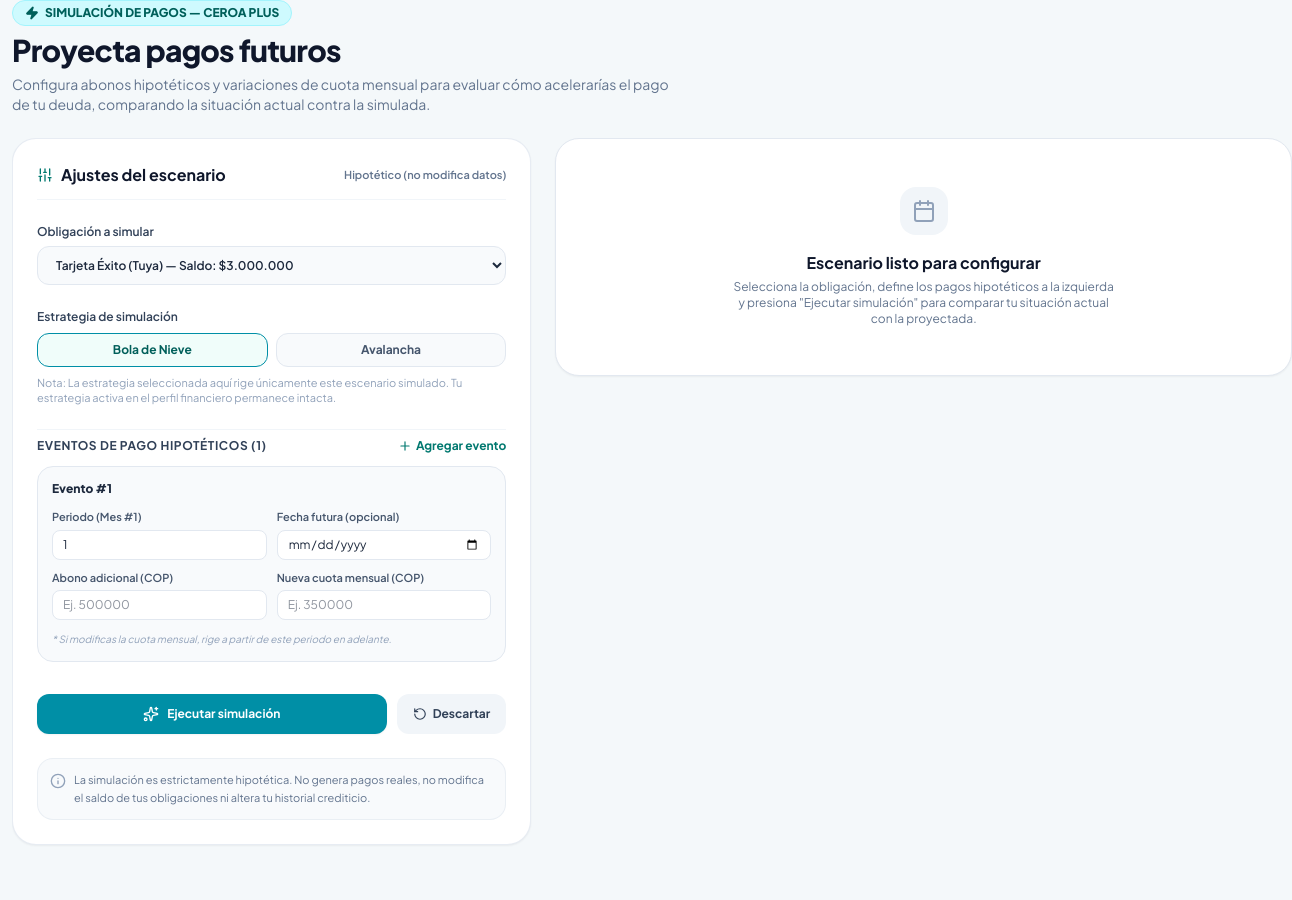
Test: EP-11 — Simulación de pagos (HU-045, HU-046, HU-047) › HU-045: Crear escenario de simulación › CA-03 & CA-04: Permite agregar y eliminar múltiples eventos hipotéticos
This screenshot has width=1292, height=900.
Expected: the text "Evento #1" is shown, left=52, top=481, right=112, bottom=497
Expected: the text "Evento #2" is not shown
Note: Agregar evento
Click the button "Agregar evento" at [452, 446], box left=398, top=438, right=506, bottom=454
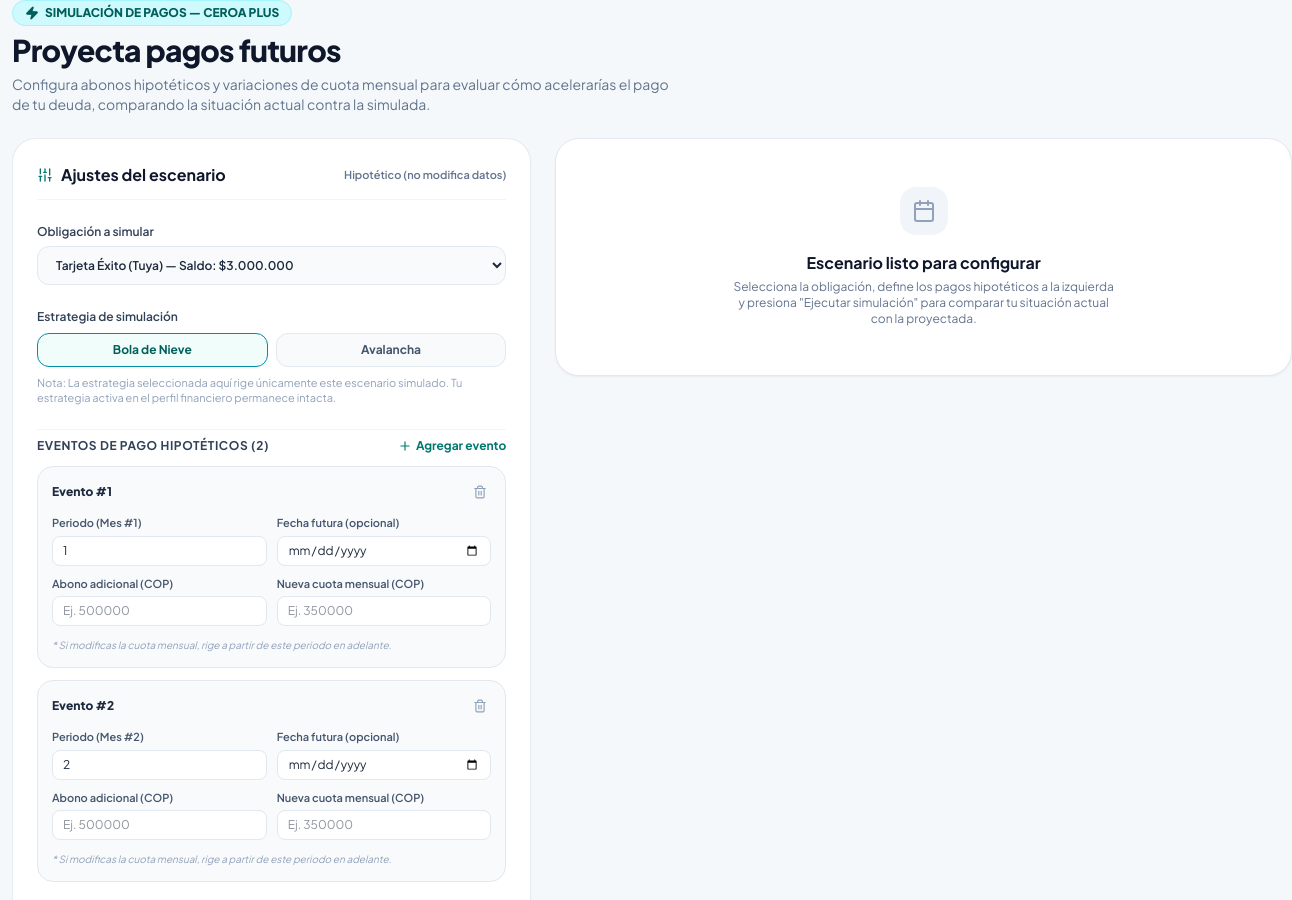
Now the text "Evento #2" is shown, box left=52, top=698, right=114, bottom=714
Note: Eliminar evento 2
Click the button named "Eliminar evento 2" at [480, 706], box left=469, top=695, right=491, bottom=717
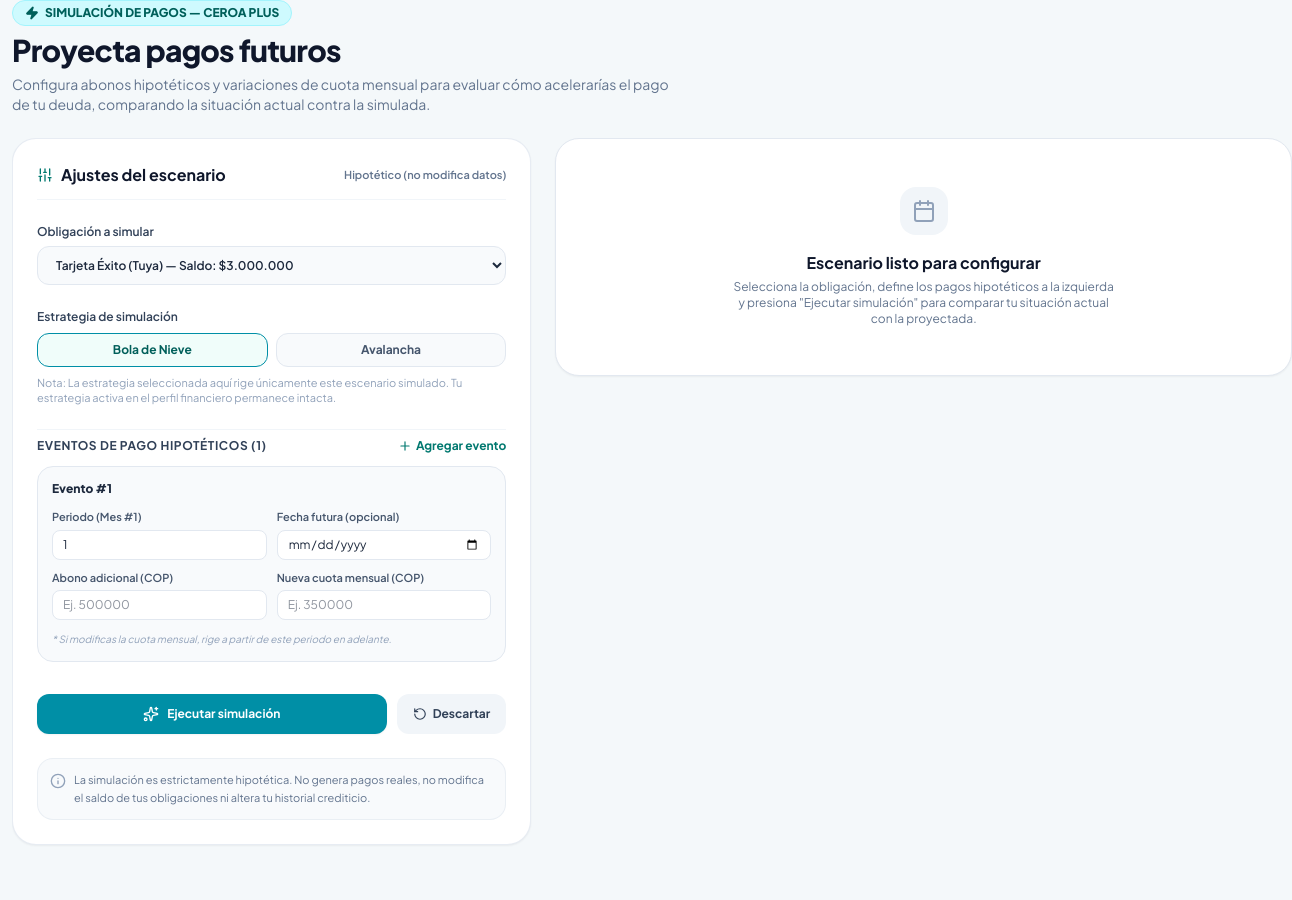
Now the text "Evento #2" is gone
